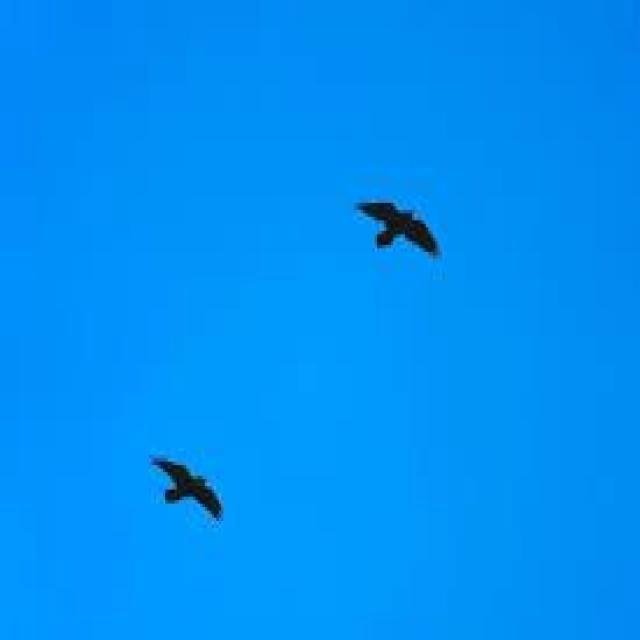bird: (354, 193, 442, 256), (150, 457, 217, 528)
